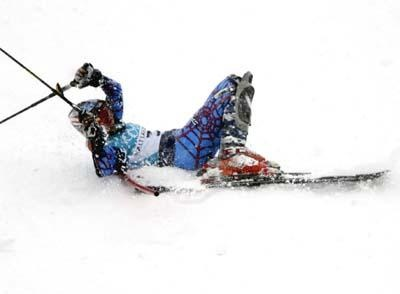falling: (60, 40, 289, 195)
